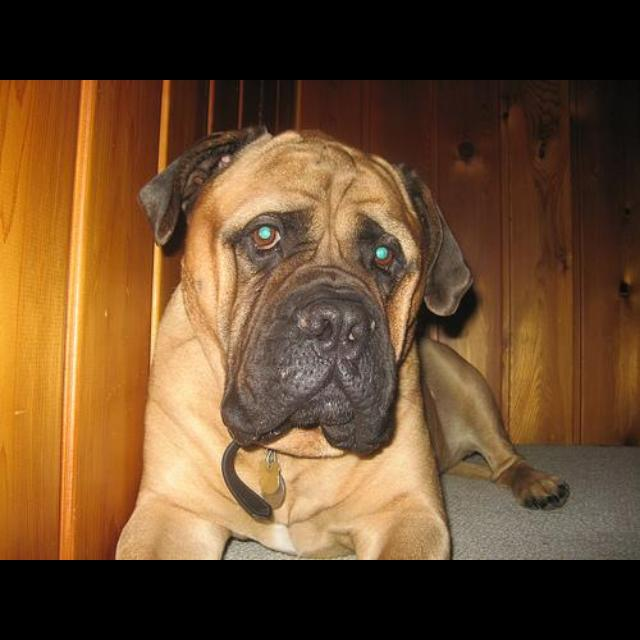bullmastiff: (114, 125, 572, 560)
